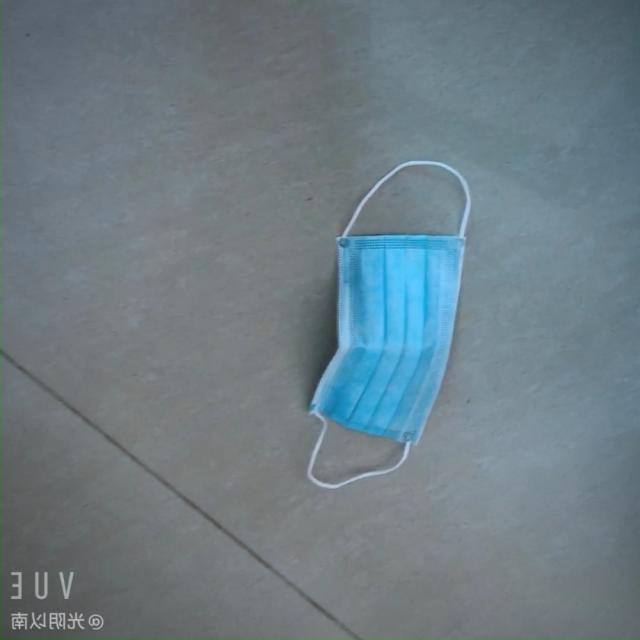face mask: (304, 136, 464, 504)
